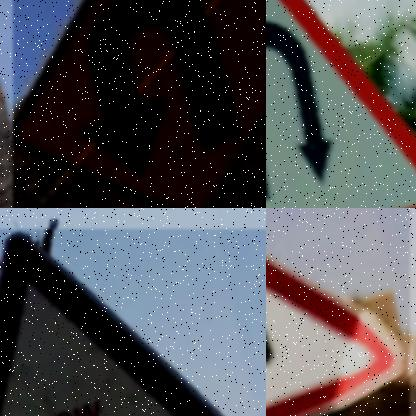Slow: (0, 230, 221, 416)
U-Turn: (266, 0, 416, 208)
Zigzag Road Ahead: (266, 254, 410, 416)
